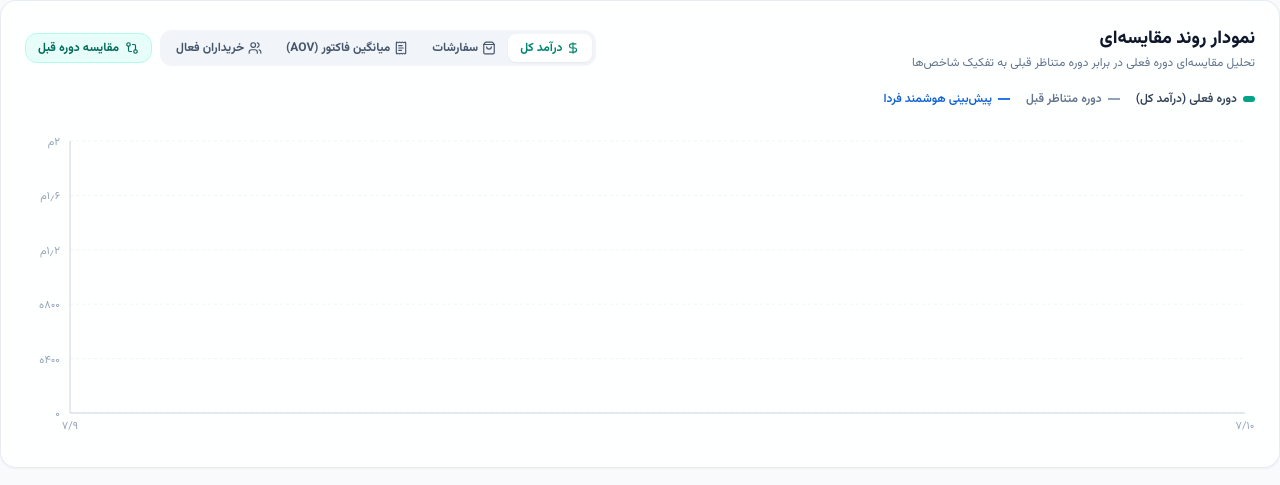
Test: [component] AnalyticsComponents › AnalyticsHeroChart › renders all metric selection tabs and switches active metric
Click the tab "سفارشات" at (464, 48), box [420,34,508,62]
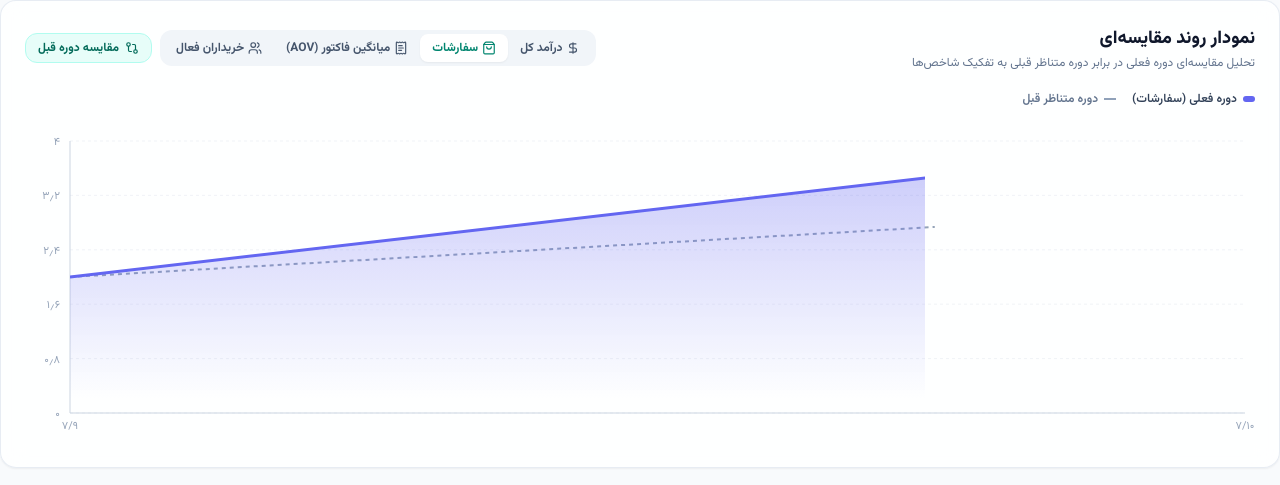
Result: the tab "سفارشات" is selected at [420,34,508,62]
Result: the tab "درآمد کل" is not selected at [508,34,592,62]
